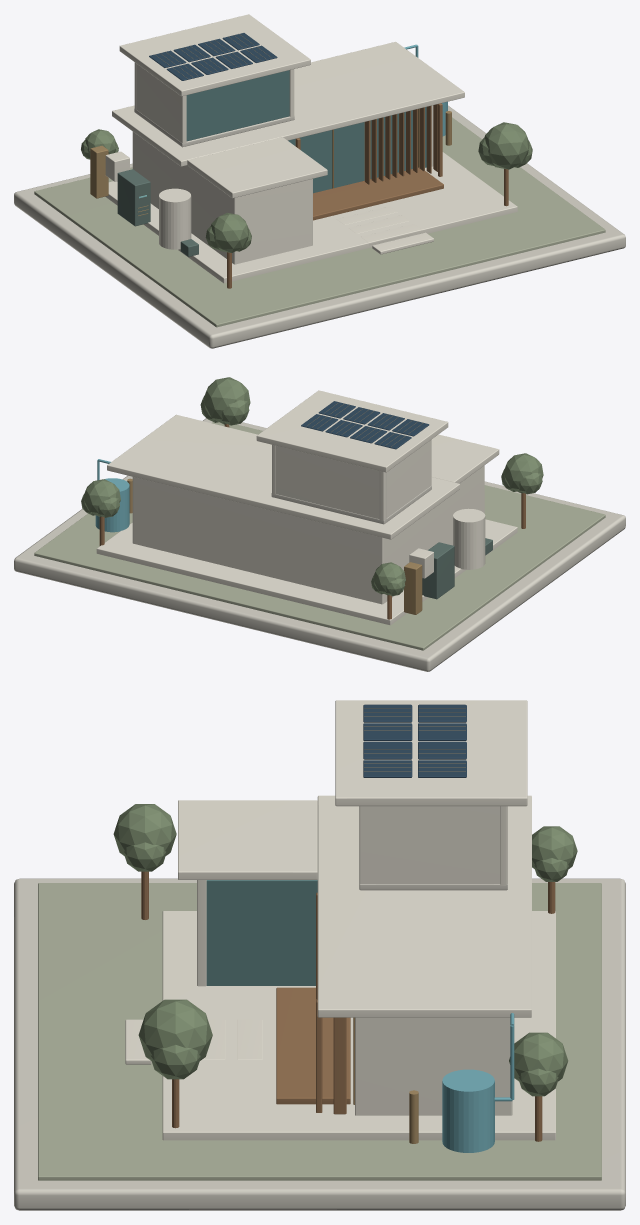
File: horizon-h1.glb
3 views of the same model, one above another, from view 1: azimuth 30°, elevation 25°; view 2: azimuth 150°, elevation 25°; view 3: azimuth 270°, elevation 25° (orthographic). The views are drawn at different scales.
Parts seen in each view (by area): view 1: SITE_GARDEN, SITE_PLINTH, ENV_MAIN_ROOF, STR_FOUNDATION, ENV_STUDIO_ROOF, ENV_SLEEP_ROOF, ENV_STUDIO_GLASS, ENV_SLEEP_FRONT, ENV_LIVING_GLASS, ENV_WEST_WALL, INT_TERRACE, ENV_STUDIO_SIDE (+11 smaller); view 2: SITE_GARDEN, ENV_REAR_WALL, SITE_PLINTH, ENV_MAIN_ROOF, STR_FOUNDATION, ENV_STUDIO_ROOF, ENV_STUDIO_BACK, ENV_WEST_WALL, ENV_STUDIO_SIDE, ENV_SLEEP_ROOF, WAT_DOMESTIC_TANK, ENE_BATTERY_CABINET (+9 smaller); view 3: SITE_GARDEN, SITE_PLINTH, ENV_MAIN_ROOF, STR_FOUNDATION, ENV_STUDIO_ROOF, ENV_EAST_WALL, ENV_SLEEP_GLASS, ENV_SLEEP_ROOF, ENV_STUDIO_SIDE.001, INT_TERRACE, WAT_RAIN_TANK, LAN_TREE_CANOPY.003 (+21 smaller).
Boxes of the visible parts, left/top/right/bottom form: SITE_GARDEN: left=34, top=117, right=605, bottom=327; SITE_PLINTH: left=14, top=105, right=625, bottom=348; ENV_MAIN_ROOF: left=112, top=41, right=464, bottom=166; STR_FOUNDATION: left=105, top=152, right=517, bottom=283; ENV_STUDIO_ROOF: left=119, top=14, right=310, bottom=96; ENV_SLEEP_ROOF: left=187, top=137, right=327, bottom=198; ENV_STUDIO_GLASS: left=186, top=70, right=289, bottom=141; ENV_SLEEP_FRONT: left=234, top=179, right=312, bottom=264; ENV_LIVING_GLASS: left=288, top=107, right=426, bottom=193; ENV_WEST_WALL: left=132, top=131, right=234, bottom=264; INT_TERRACE: left=313, top=167, right=443, bottom=220; ENV_STUDIO_SIDE: left=137, top=64, right=186, bottom=144; SITE_GARDEN: left=34, top=422, right=605, bottom=650; ENV_REAR_WALL: left=133, top=477, right=382, bottom=604; SITE_PLINTH: left=14, top=418, right=625, bottom=671; ENV_MAIN_ROOF: left=107, top=414, right=459, bottom=539; STR_FOUNDATION: left=96, top=519, right=517, bottom=625; ENV_STUDIO_ROOF: left=256, top=390, right=448, bottom=472; ENV_STUDIO_BACK: left=276, top=446, right=386, bottom=520; ENV_WEST_WALL: left=382, top=465, right=484, bottom=603; ENV_STUDIO_SIDE: left=379, top=439, right=431, bottom=521; ENV_SLEEP_ROOF: left=431, top=434, right=499, bottom=483; WAT_DOMESTIC_TANK: left=453, top=508, right=485, bottom=569; ENE_BATTERY_CABINET: left=422, top=542, right=454, bottom=599; SITE_GARDEN: left=38, top=883, right=601, bottom=1180; SITE_PLINTH: left=14, top=878, right=625, bottom=1210; ENV_MAIN_ROOF: left=317, top=795, right=531, bottom=1017; STR_FOUNDATION: left=162, top=911, right=555, bottom=1140; ENV_STUDIO_ROOF: left=335, top=700, right=527, bottom=806; ENV_EAST_WALL: left=355, top=1017, right=511, bottom=1115; ENV_SLEEP_GLASS: left=206, top=880, right=317, bottom=985; ENV_SLEEP_ROOF: left=178, top=800, right=317, bottom=879; ENV_STUDIO_SIDE.001: left=359, top=806, right=507, bottom=883; INT_TERRACE: left=276, top=987, right=350, bottom=1104; WAT_RAIN_TANK: left=442, top=1069, right=494, bottom=1152; LAN_TREE_CANOPY.003: left=138, top=999, right=212, bottom=1060.
Size of the model in its own units: 17 by 6.52 by 14.
